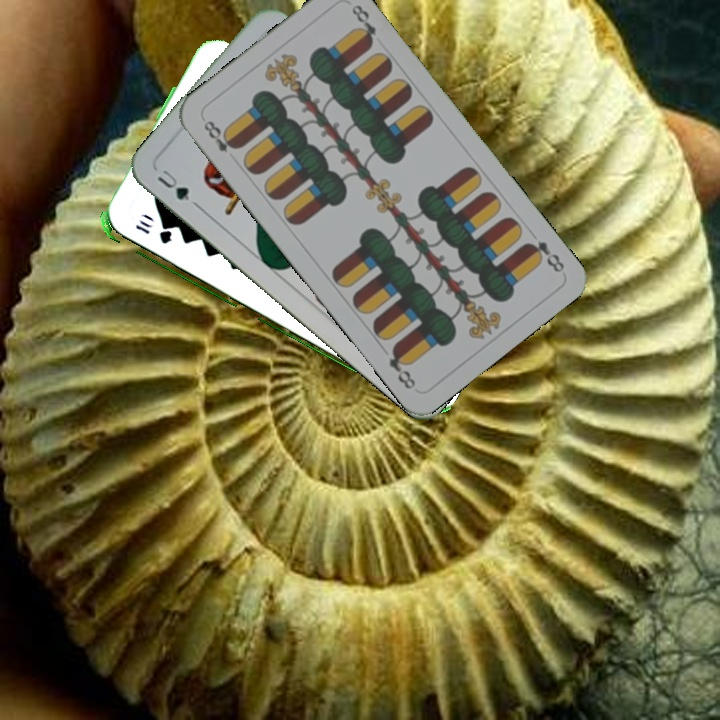E8: (198, 114, 242, 156), (521, 236, 567, 276)
G10: (131, 216, 174, 247)
GU: (153, 165, 192, 204)
